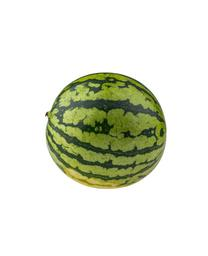watermelon: (44, 71, 168, 192)
